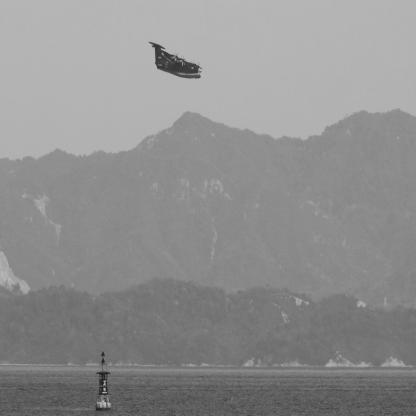US2: (149, 42, 204, 80)
